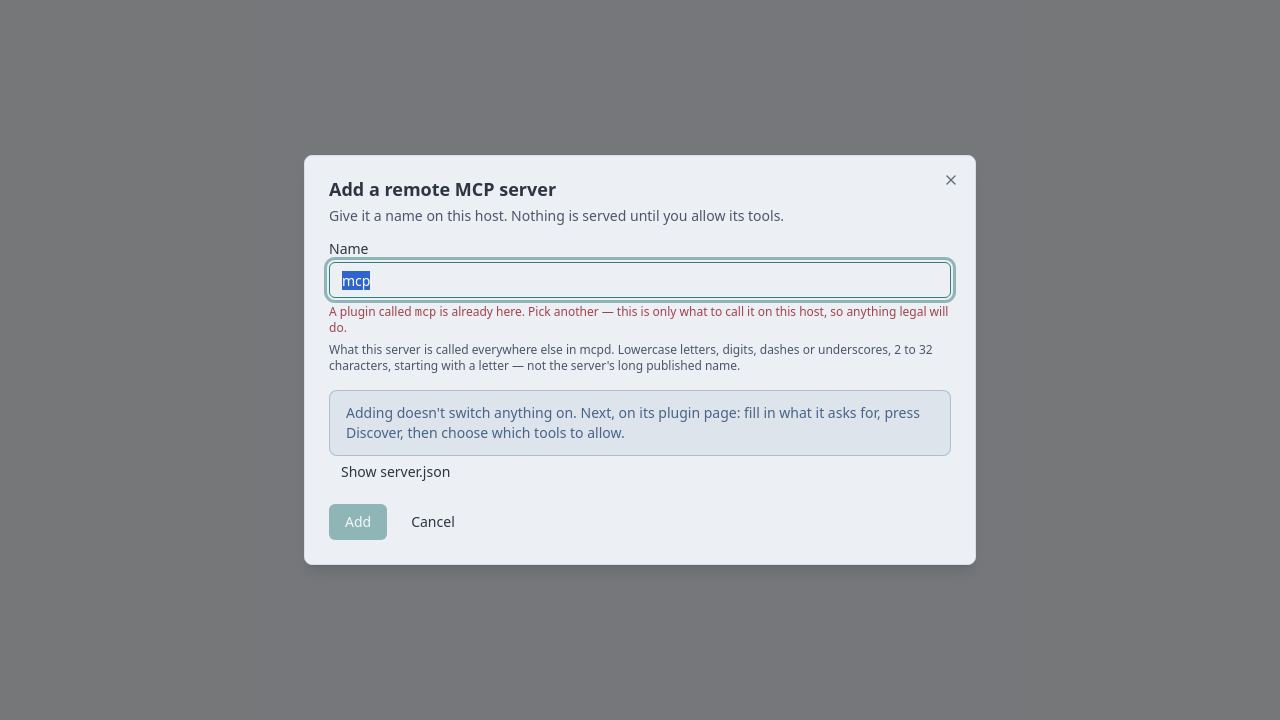
it: a name already in use › clears once a free name is typed
Type "-linear" into the field labelled "Name" at point(640, 280), box [329,262,951,298]
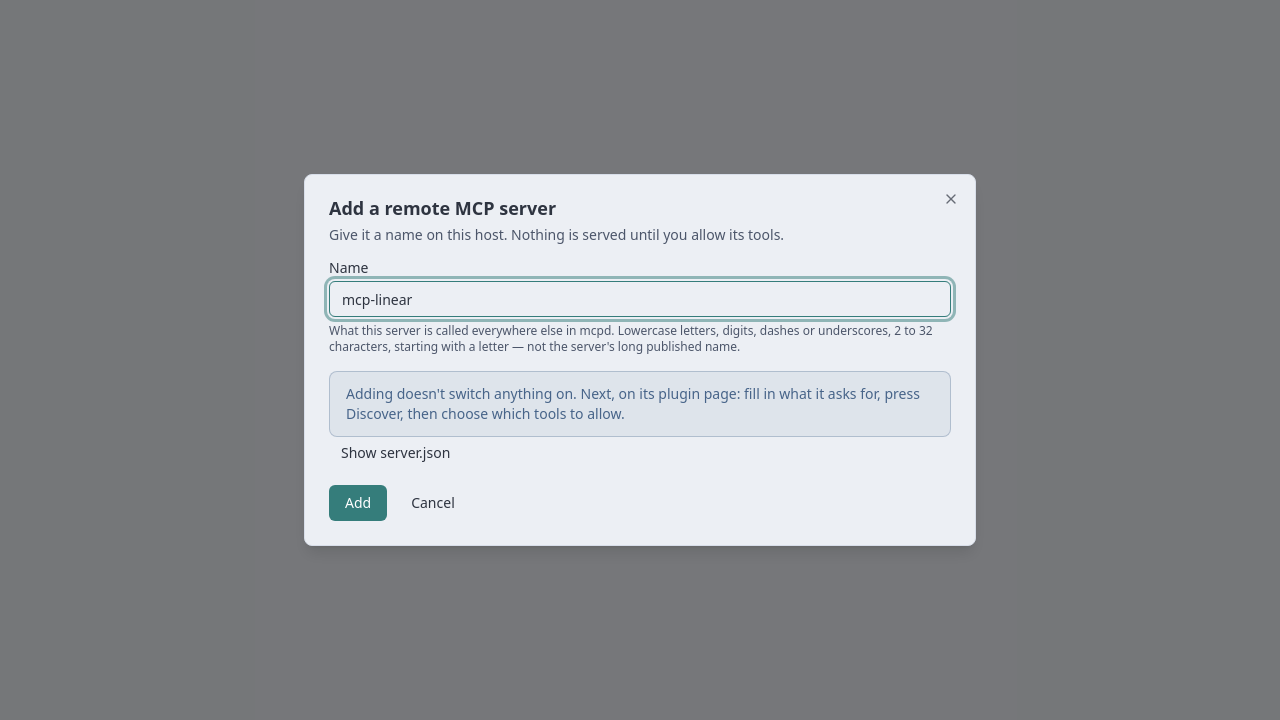
Check: the text "is already here" is gone
Check: the button "Add" is enabled, box [329,485,387,521]
